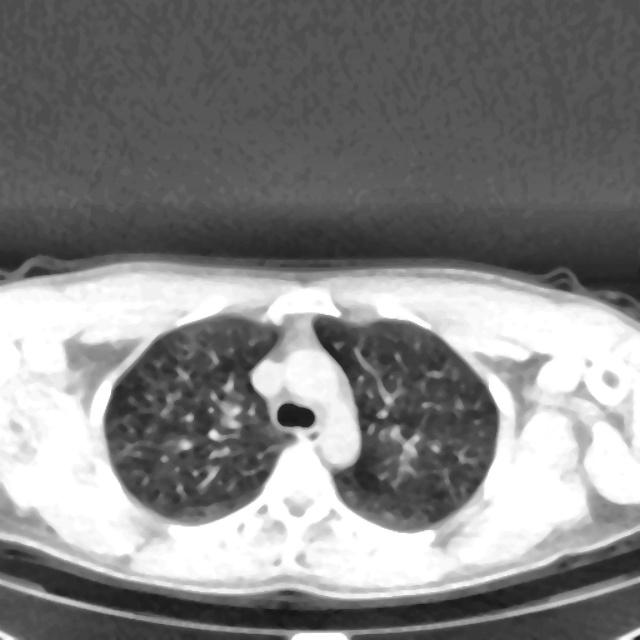covid: (0, 252, 639, 609)
